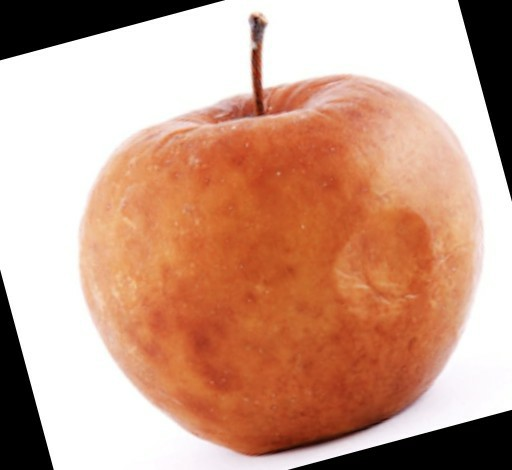rotten_apple: (84, 78, 482, 451)
